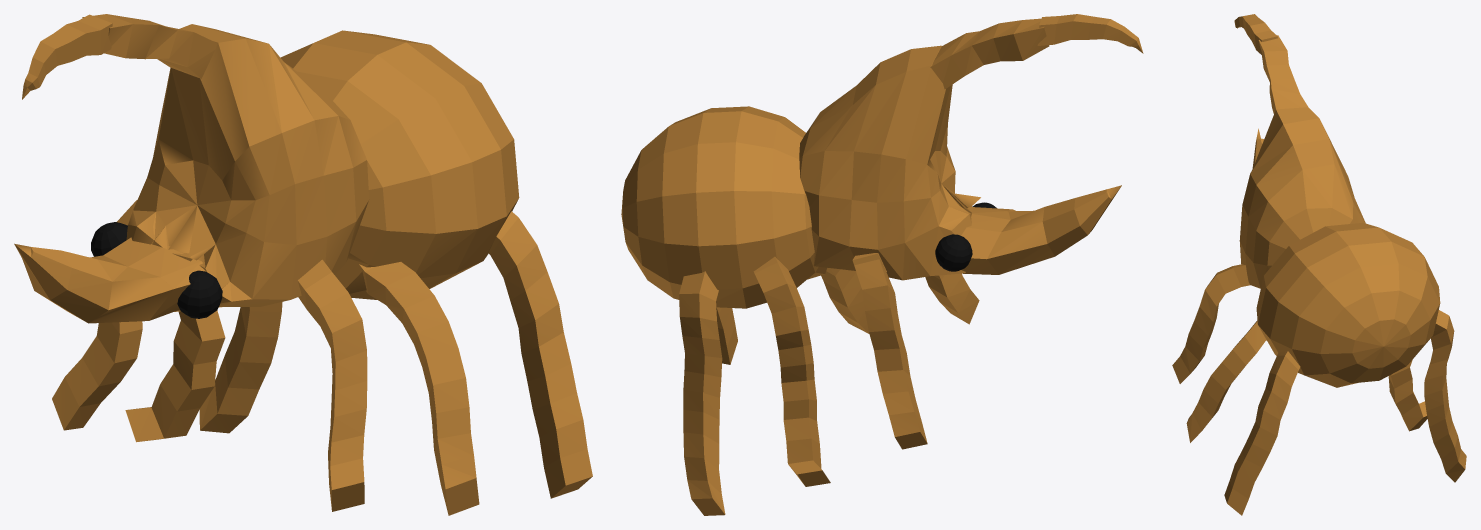
The model's file is beetle.gltf.
3 renders of one model, left to right at view 1: azimuth 30°, elevation 25°; view 2: azimuth 150°, elevation 25°; view 3: azimuth 270°, elevation 25°, orthographic. The views are drawn at different scales.
Parts seen in each view (by area): view 1: node_MeshObject897979392-PolyPaper21.001; view 2: node_MeshObject897979392-PolyPaper21.001; view 3: node_MeshObject897979392-PolyPaper21.001.
Boxes of the visible parts, bbox=[...] form: node_MeshObject897979392-PolyPaper21.001: bbox=[14, 14, 592, 515]; node_MeshObject897979392-PolyPaper21.001: bbox=[621, 14, 1143, 515]; node_MeshObject897979392-PolyPaper21.001: bbox=[1172, 14, 1466, 515].
Size of the model in its own units: 1.74 by 1.78 by 1.3.
